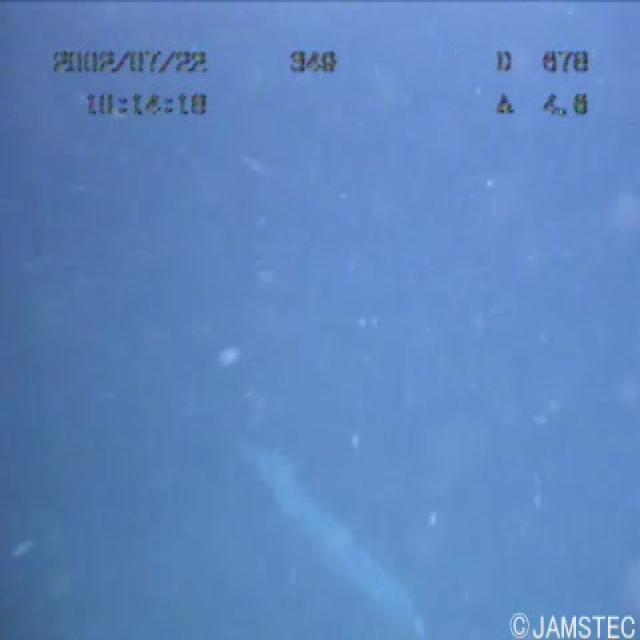plastic: (210, 400, 470, 638)
